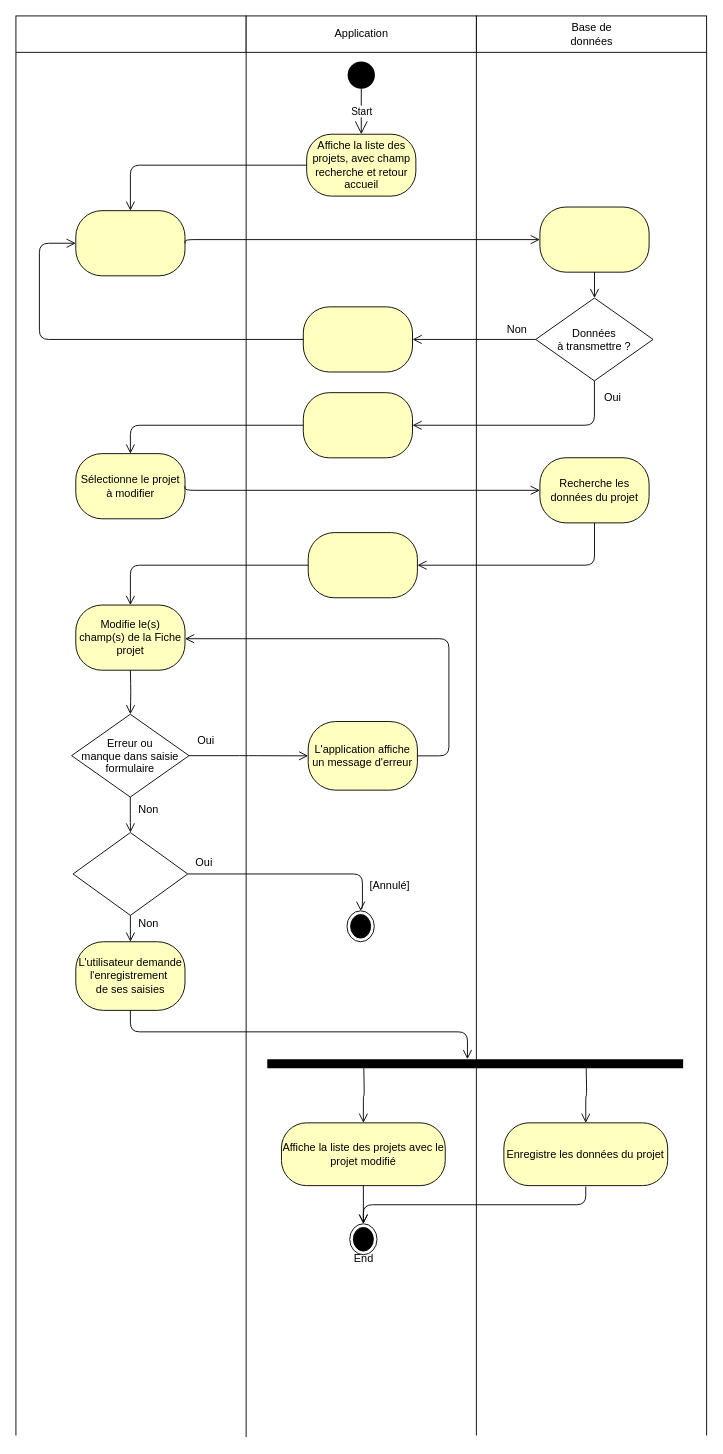
This 723x1454 diagram has some shape labels left out. The shapes that lost their labels are listed below. From the top down, each one's centre as x and y in pixels, then its label:
the point at 130,33: Utilisateur
the point at 130,243: saisie nomProjet ou identifiant
the point at 594,239: Recherche les données
the point at 357,339: Affiche liste vide
the point at 357,425: Affiche une liste de projets filtrés
the point at 362,565: Affiche la Fiche du projet
the point at 130,873: L'utilisateur annule la création
